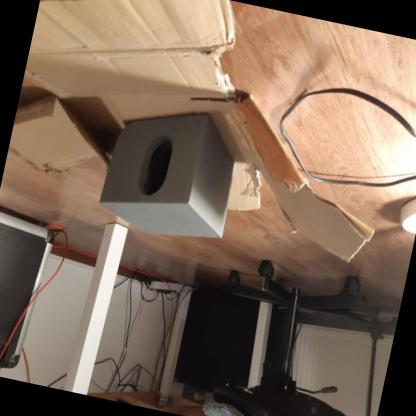CornerCasting: (89, 90, 251, 252)
